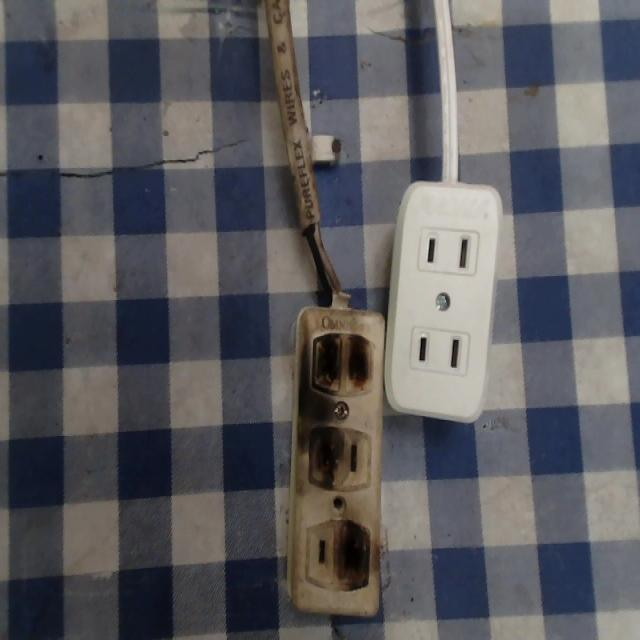-: (302, 322, 381, 402), (302, 417, 342, 495), (337, 515, 372, 596)
